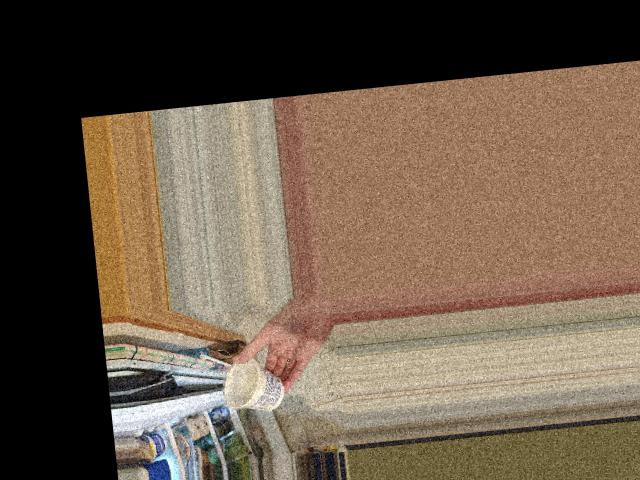cotage: (221, 358, 288, 410)
